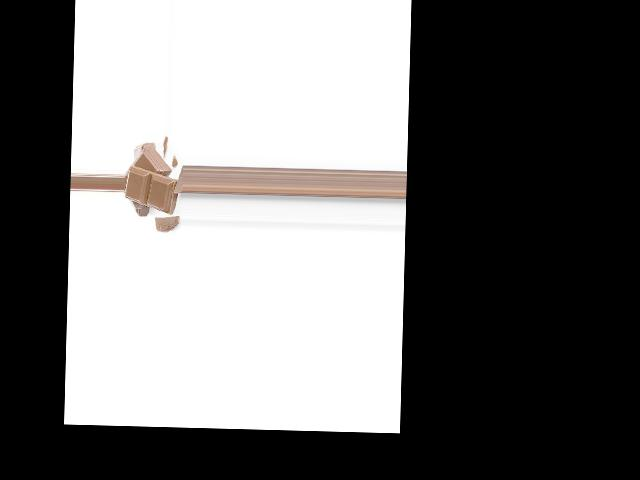chocolate: (126, 165, 177, 212)
